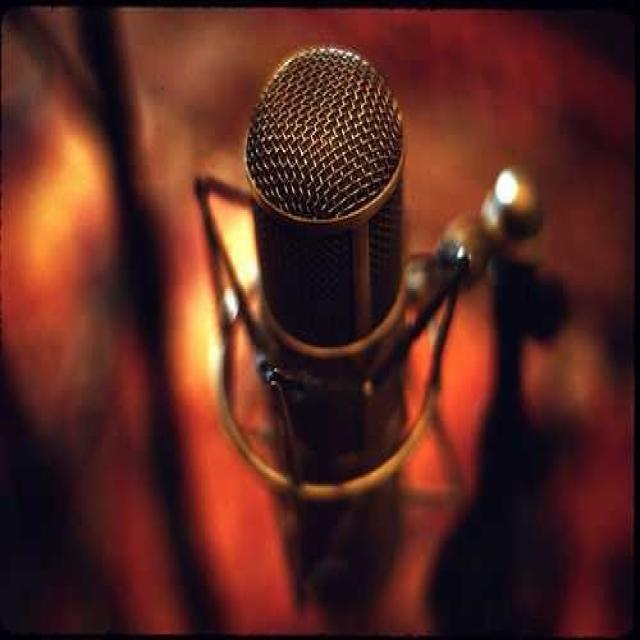microphone: (242, 51, 404, 362)
